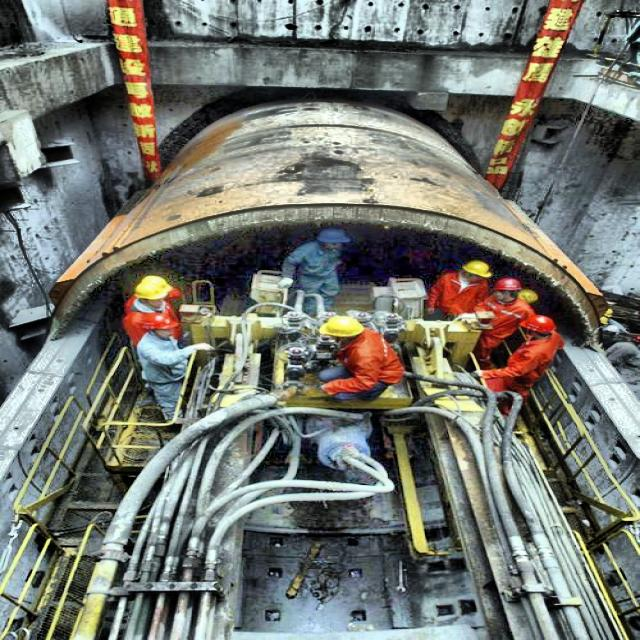helmet: (314, 311, 371, 350), (130, 311, 190, 343), (511, 314, 567, 344), (131, 272, 174, 305), (311, 227, 357, 254), (458, 258, 501, 283), (491, 272, 521, 304)
